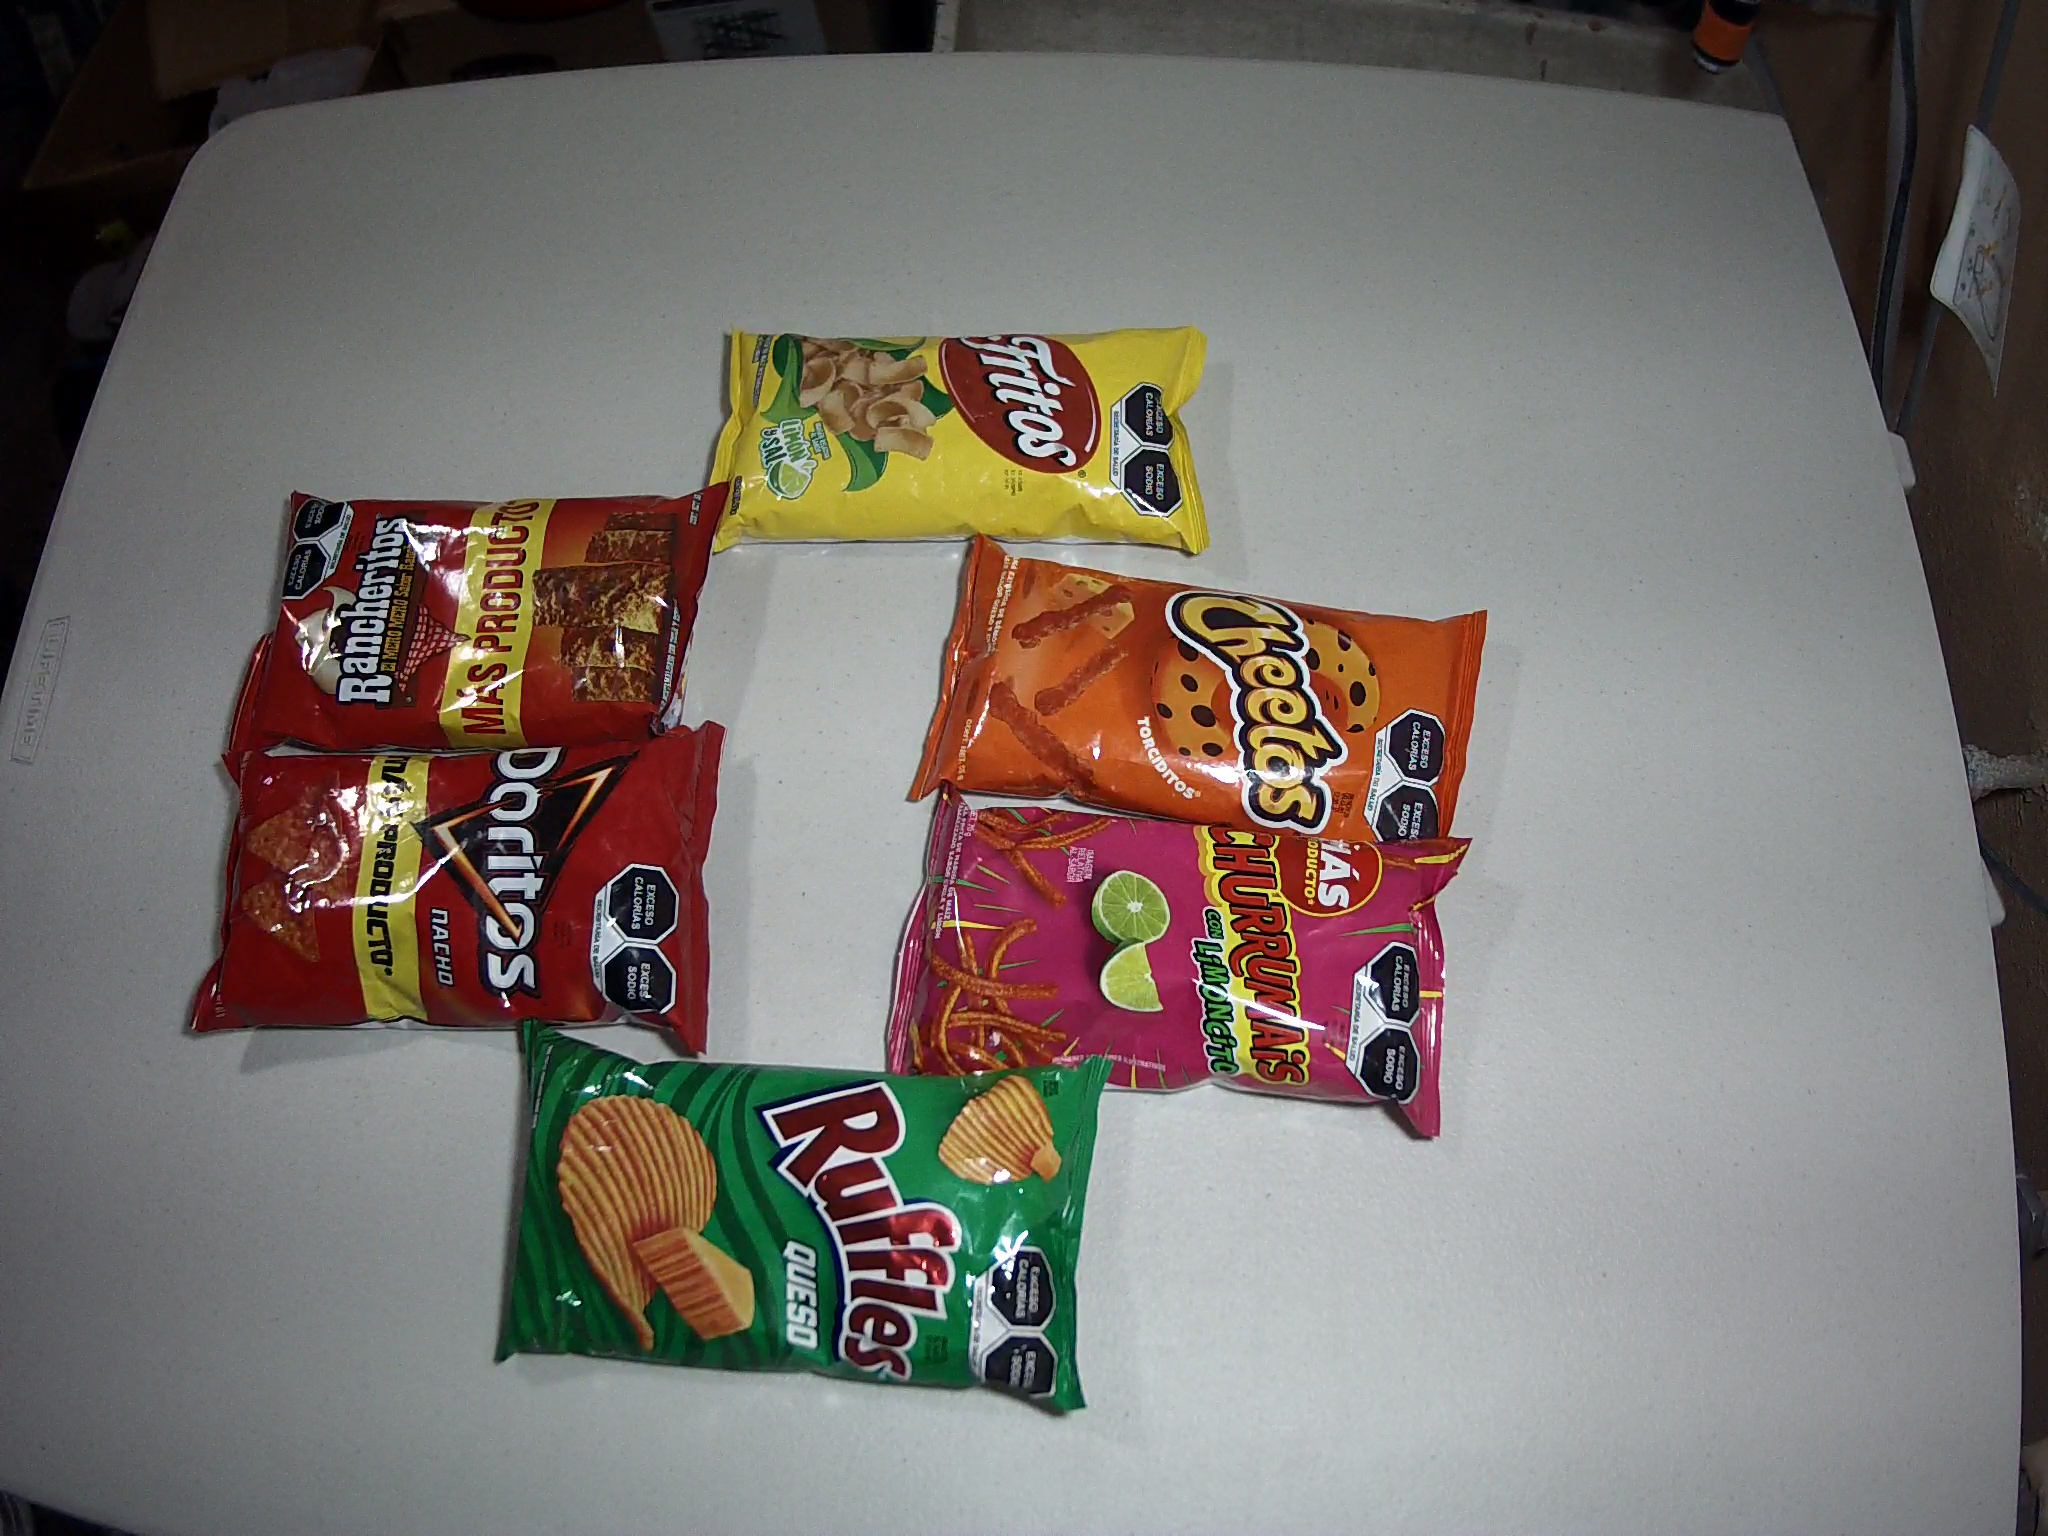CheetosTorciditos_55_F: (906, 536, 1488, 871)
Churrumais_70_F: (880, 778, 1479, 1141)
DoritosN_61_F: (189, 718, 727, 1057)
FritosSalLimon_65_F: (706, 323, 1209, 561)
Rancheritos_58_F: (227, 478, 732, 757)
RufflesQ_48_F: (493, 1016, 1114, 1412)
